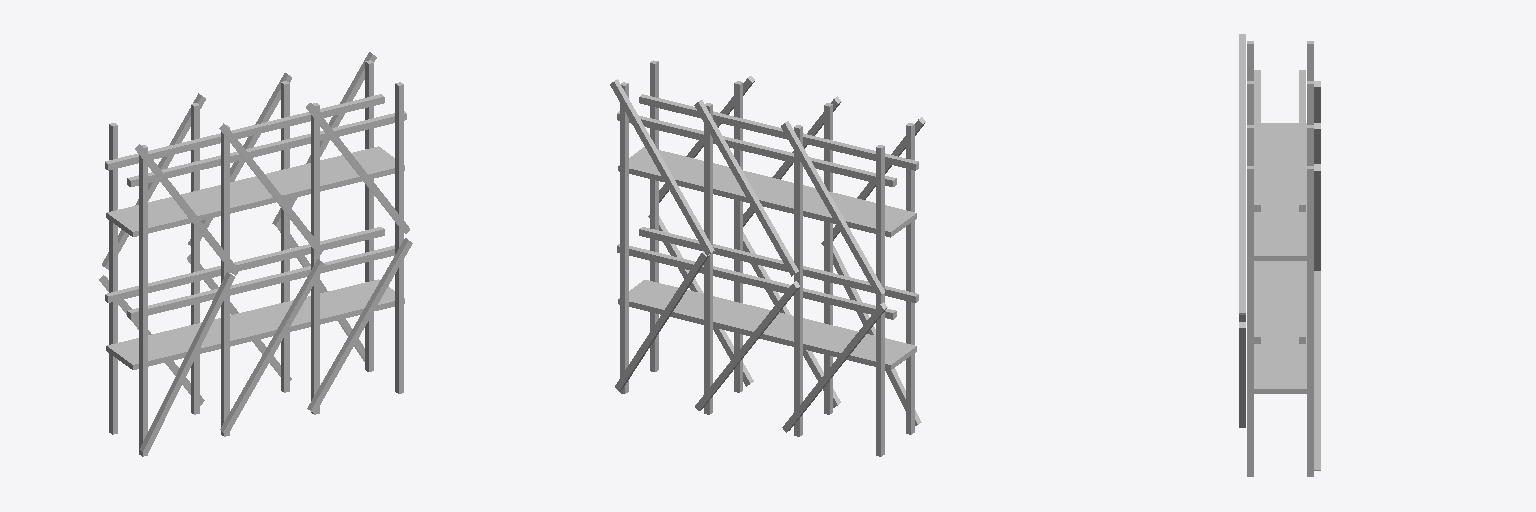
Rendered from scaffoldingOBJ.obj.
3 renders of one model, left to right at view 1: azimuth 30°, elevation 25°; view 2: azimuth 150°, elevation 25°; view 3: azimuth 270°, elevation 25°, orthographic.
Parts seen in each view (by area): view 1: Scaffolding pCube18, Scaffolding pCube1, Scaffolding pCube9, Scaffolding pCube6, Scaffolding pCube19, Scaffolding pCube17, Scaffolding pCube5, Scaffolding pCube16, Scaffolding pCube7, Scaffolding pCube8, Scaffolding pCube20, Scaffolding pCube10 group3 (+11 smaller); view 2: Scaffolding pCube1, Scaffolding pCube18, Scaffolding pCube5, pCube2 Scaffolding, Scaffolding pCube4, Scaffolding pCube9, Scaffolding pCube20, Scaffolding pCube16, Scaffolding pCube3, Scaffolding pCube17, Scaffolding pCube19, Scaffolding group2 pCube13 (+14 smaller); view 3: Scaffolding pCube18, Scaffolding pCube1, pCube2 Scaffolding, Scaffolding pCube6, Scaffolding pCube10 group2, Scaffolding group3 pCube14, Scaffolding pCube19, Scaffolding pCube20, Scaffolding group2 pCube11, Scaffolding group3 pCube15, Scaffolding pCube16, Scaffolding pCube17.
Boxes of the visible parts, box(x1,y1,x2,y2) form: Scaffolding pCube18: box(106, 146, 404, 236); Scaffolding pCube1: box(106, 279, 404, 369); Scaffolding pCube9: box(139, 145, 147, 456); Scaffolding pCube6: box(395, 82, 403, 393); Scaffolding pCube19: box(105, 94, 384, 170); Scaffolding pCube17: box(105, 227, 384, 302); Scaffolding pCube5: box(109, 123, 117, 434); Scaffolding pCube16: box(127, 245, 394, 319); Scaffolding pCube7: box(221, 125, 229, 436); Scaffolding pCube8: box(311, 103, 319, 414); Scaffolding pCube20: box(127, 111, 406, 186); Scaffolding pCube10 group3: box(140, 272, 234, 454); Scaffolding pCube1: box(618, 280, 916, 370); Scaffolding pCube18: box(618, 147, 916, 237); Scaffolding pCube5: box(876, 145, 884, 456); pCube2 Scaffolding: box(620, 82, 628, 393); Scaffolding pCube4: box(794, 125, 802, 436); Scaffolding pCube9: box(906, 123, 914, 434); Scaffolding pCube20: box(639, 94, 918, 170); Scaffolding pCube16: box(639, 227, 918, 302); Scaffolding pCube3: box(704, 103, 712, 414); Scaffolding pCube17: box(617, 244, 896, 319); Scaffolding pCube19: box(617, 111, 896, 186); Scaffolding group2 pCube13: box(694, 100, 798, 276); Scaffolding pCube18: box(1254, 123, 1306, 260); Scaffolding pCube1: box(1254, 261, 1306, 393); pCube2 Scaffolding: box(1307, 166, 1313, 476); Scaffolding pCube6: box(1247, 166, 1253, 476); Scaffolding pCube10 group2: box(1314, 271, 1320, 470); Scaffolding group3 pCube14: box(1239, 117, 1245, 314); Scaffolding pCube19: box(1299, 70, 1305, 211); Scaffolding pCube20: box(1254, 70, 1260, 211); Scaffolding group2 pCube11: box(1314, 164, 1320, 270); Scaffolding group3 pCube15: box(1239, 322, 1245, 427); Scaffolding pCube16: box(1254, 261, 1260, 343); Scaffolding pCube17: box(1299, 261, 1305, 343).
Bounding box in the file's own units: 743 × 806 × 189.